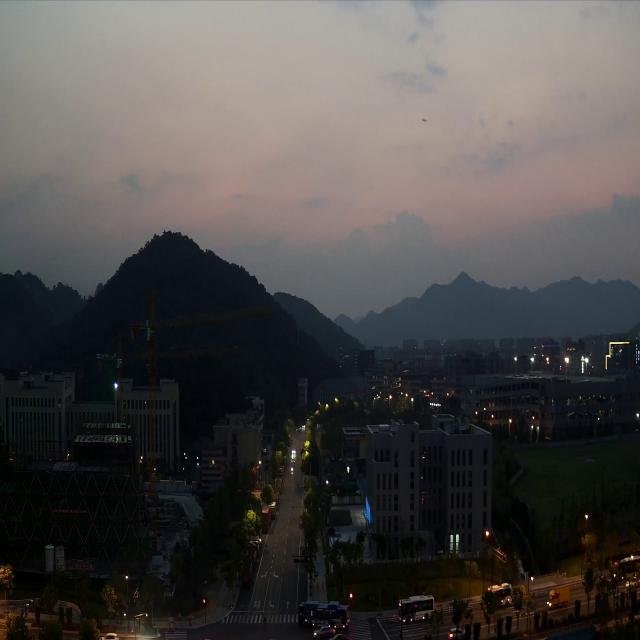UAV: (421, 118, 427, 122)
